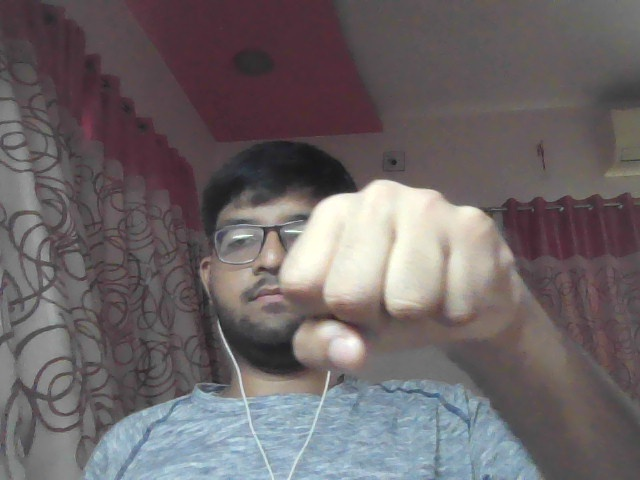હા: (275, 166, 528, 402)
